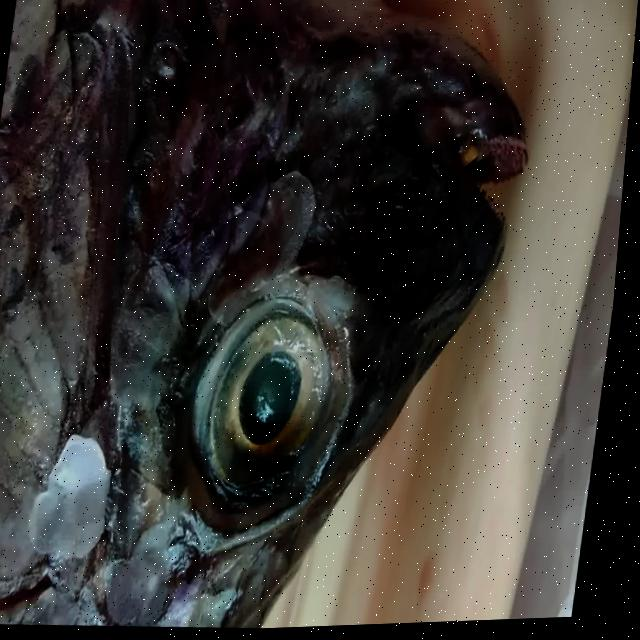Non-Fresh: (146, 202, 419, 569)
